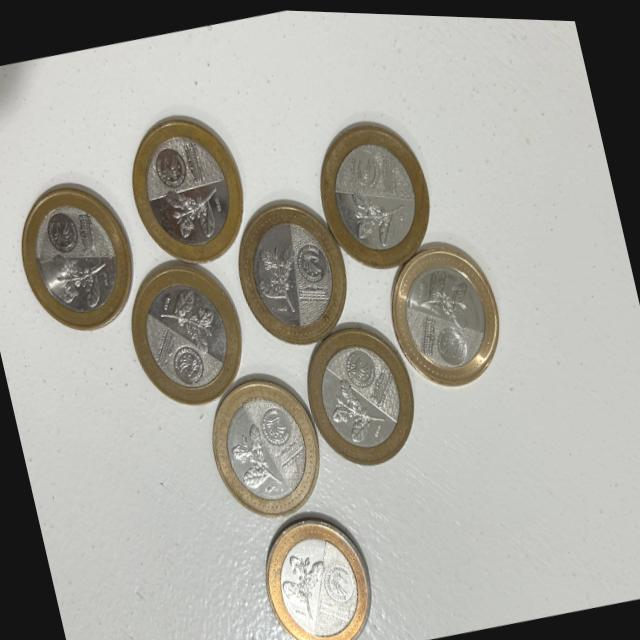20_New_Back: (320, 361, 389, 453)
